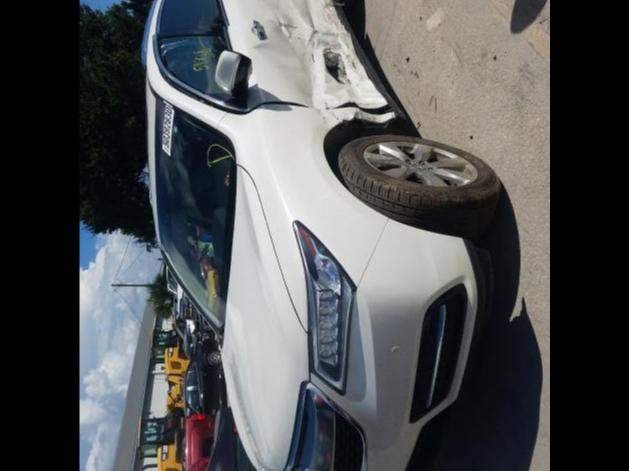Broken part: (152, 25, 389, 114)
Corrosion: (317, 109, 373, 176), (319, 0, 348, 36)
Dent: (251, 27, 383, 107), (255, 0, 345, 32), (354, 109, 393, 124), (340, 109, 353, 119), (318, 110, 327, 117)
Scratch: (340, 40, 349, 50), (283, 25, 291, 36), (275, 17, 283, 27), (332, 112, 338, 119), (311, 53, 315, 62), (322, 116, 325, 124), (312, 40, 315, 48), (314, 89, 317, 95), (296, 36, 300, 39)
